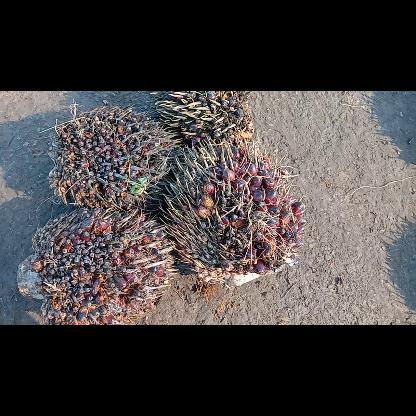TBS abnormal: (13, 204, 183, 324), (46, 104, 184, 214), (148, 91, 256, 147)
TBS masak: (157, 136, 309, 290)
